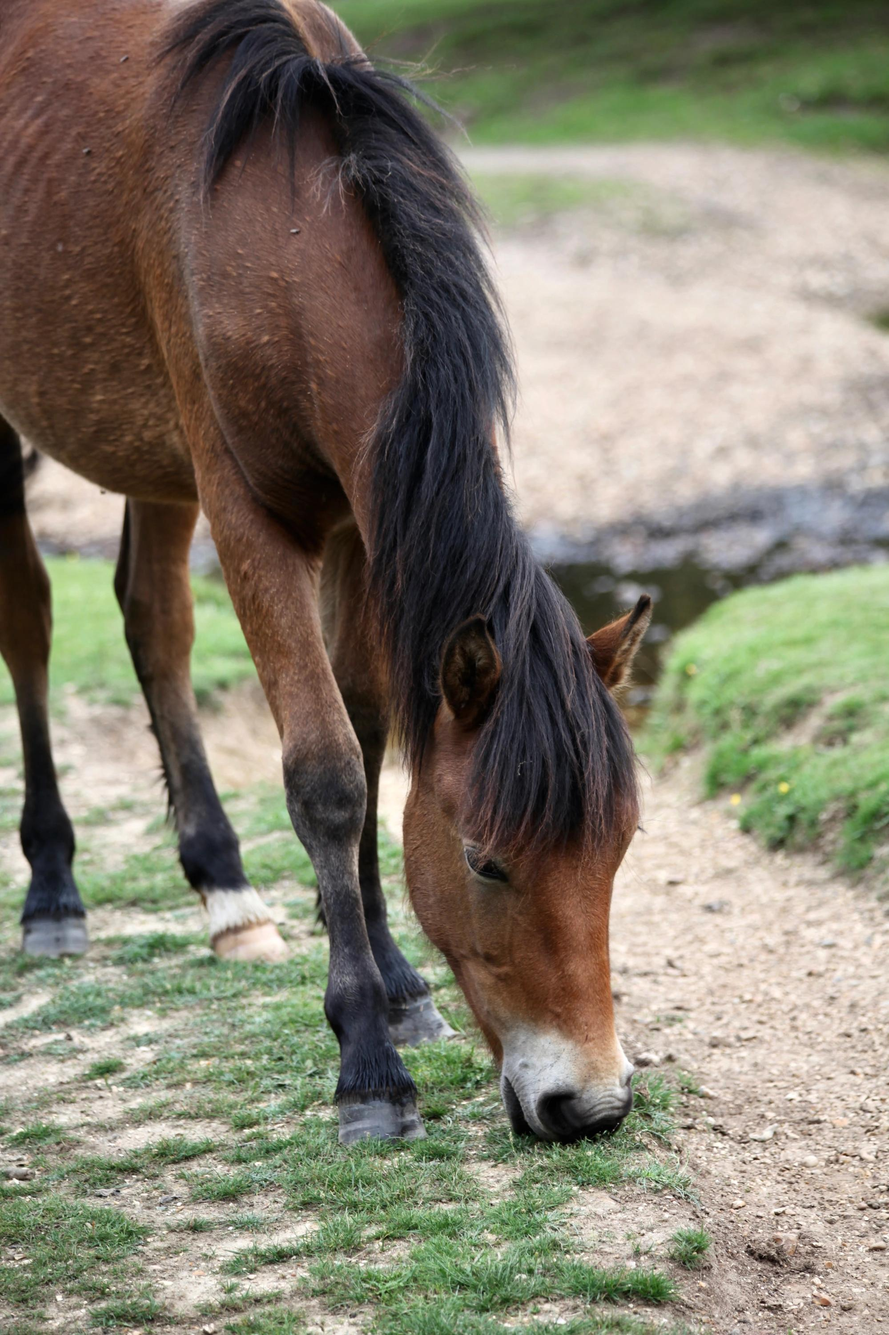horse: (0, 0, 664, 1173)
